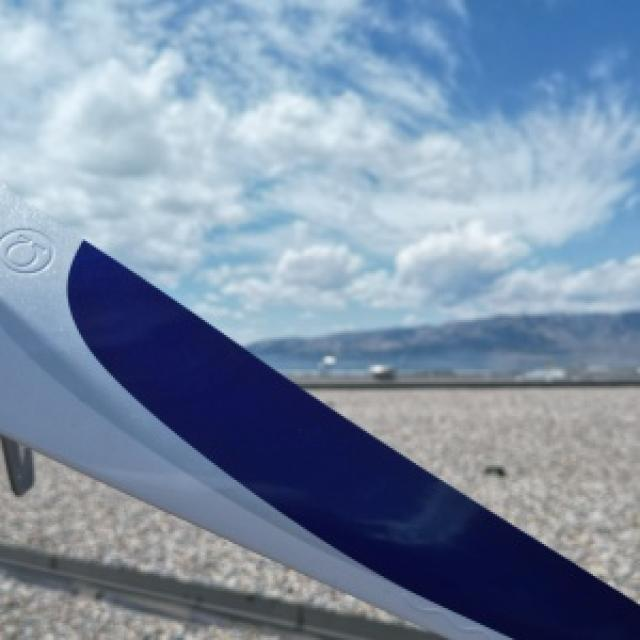healthy: (0, 186, 638, 638)
